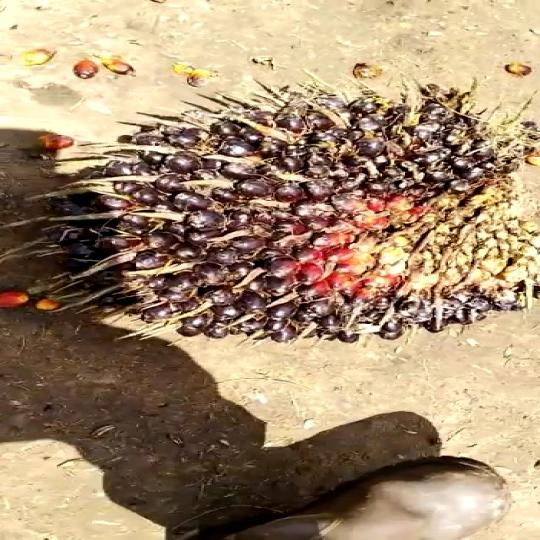mentah: (53, 81, 540, 347)
